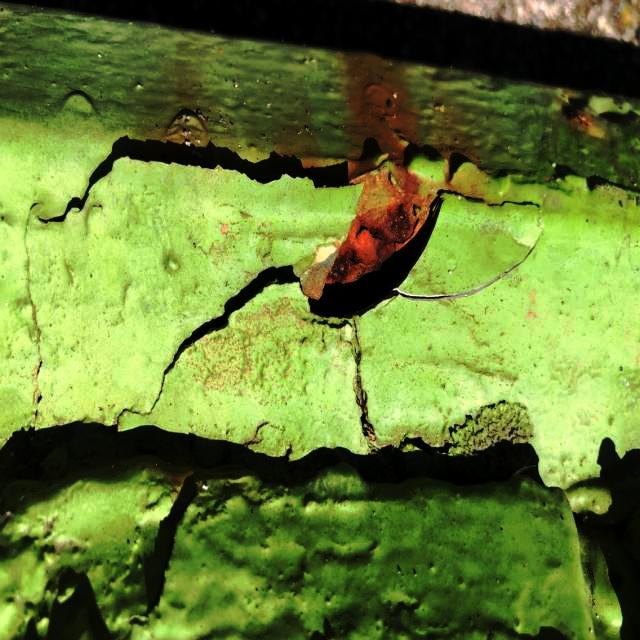Corrosion: (312, 195, 429, 306), (565, 106, 594, 133)
